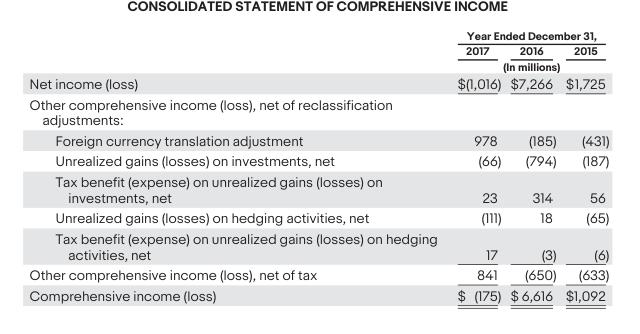table: (28, 28, 608, 302)
table column: (28, 28, 446, 302), (446, 28, 505, 302), (505, 28, 560, 302), (560, 28, 608, 302)
table column header: (28, 28, 608, 73)
table projected row header: (28, 93, 608, 129)
table row: (28, 170, 608, 207), (28, 93, 608, 129), (28, 227, 608, 263), (28, 129, 608, 150), (28, 263, 608, 284), (28, 73, 608, 93), (28, 150, 608, 170), (28, 207, 608, 227), (28, 284, 608, 302), (28, 42, 608, 58), (28, 58, 608, 73), (28, 28, 608, 42)
table spanning cell: (446, 58, 608, 73), (446, 28, 608, 42)
